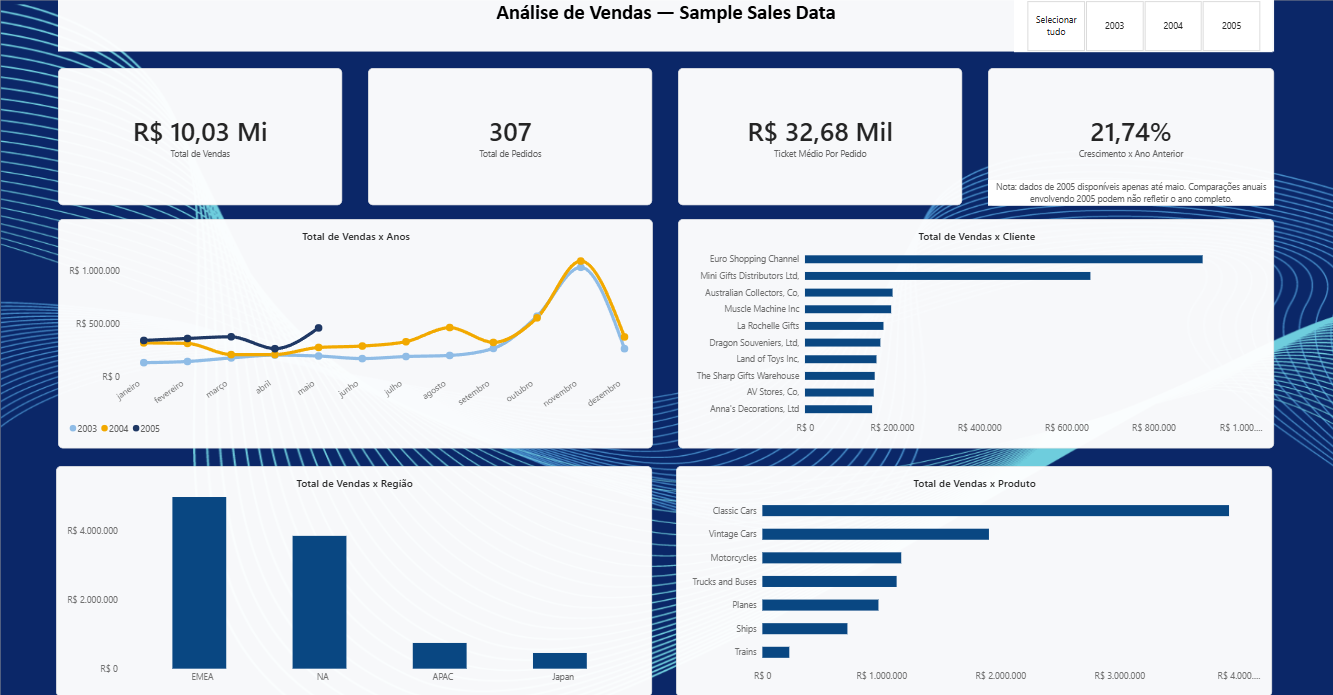

This screenshot's page, from the dashboard's own definition file:
{"tool":"powerbi","page":{"name":"Projeto 1","canvas":[1920,1080],"ordinal":0},"visuals":[{"type":"card","fields":{"Values":["Medidas.Total de Vendas"]},"box":[15.7,105.3,441.4,212.9],"z":0},{"type":"card","fields":{"Values":["Medidas.Total de Pedidos"]},"box":[496.7,105.3,441.4,212.9],"z":1000},{"type":"card","fields":{"Values":["Medidas.Crescimento % vs Ano Anterior"]},"box":[1458.7,105.3,443.7,212.9],"z":2000},{"type":"card","fields":{"Values":["Medidas.Ticket Médio Por Pedido"]},"box":[977.7,105.3,441.4,212.9],"z":3000},{"type":"lineChart","title":"Total de Vendas x Anos","fields":{"Category":["Dim_Data.NomeMes"],"Series":["Dim_Data.Ano"],"Y":["Medidas.Total de Vendas"]},"box":[15.7,340.6,923.2,356.3],"z":4000},{"type":"barChart","title":"Total de Vendas x Produto","fields":{"Category":["Dim_Produtos.PRODUCTLINE"],"Y":["Medidas.Total de Vendas"]},"box":[975,722.5,925,357.5],"z":5000},{"type":"columnChart","title":"Total de Vendas x Região","fields":{"Category":["Dim_Cliente.TERRITORY"],"Y":["Medidas.Total de Vendas"]},"box":[12.5,722.5,925,357.5],"z":6000},{"type":"textbox","box":[15.7,0,1886.6,80],"z":7000},{"type":"clusteredBarChart","title":"Total de Vendas x Cliente","fields":{"Y":["Medidas.Total de Vendas"],"Category":["Dim_Cliente.CUSTOMERNAME"]},"box":[976.9,340.6,925.4,356.3],"z":8000},{"type":"slicer","fields":{"Values":["Dim_Data.Ano"]},"box":[1499,0,401.1,80.7],"z":9000},{"type":"textbox","box":[1458.6,279,444.4,39.9],"z":10000}]}

Visuals, with their boxes in screenshot pixels (x1, y1, x2, y2):
card - Medidas.Total de Vendas: box=[65, 67, 345, 202]
card - Medidas.Total de Pedidos: box=[370, 67, 650, 202]
card - Medidas.Crescimento % vs Ano Anterior: box=[980, 67, 1262, 202]
card - Medidas.Ticket Médio Por Pedido: box=[675, 67, 955, 202]
"Total de Vendas x Anos" lineChart: box=[65, 216, 651, 442]
"Total de Vendas x Produto" barChart: box=[674, 458, 1260, 685]
"Total de Vendas x Região" columnChart: box=[63, 458, 650, 685]
textbox: box=[65, 0, 1262, 51]
"Total de Vendas x Cliente" clusteredBarChart: box=[675, 216, 1262, 442]
slicer - Dim_Data.Ano: box=[1006, 0, 1260, 51]
textbox: box=[980, 177, 1262, 202]
